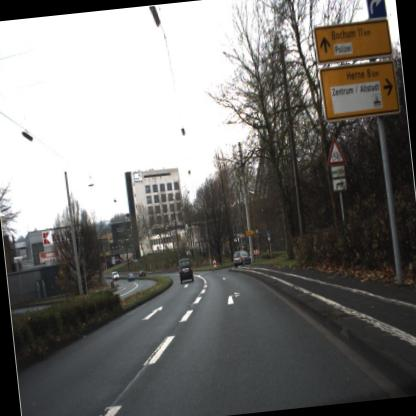danger: (323, 137, 346, 167)
